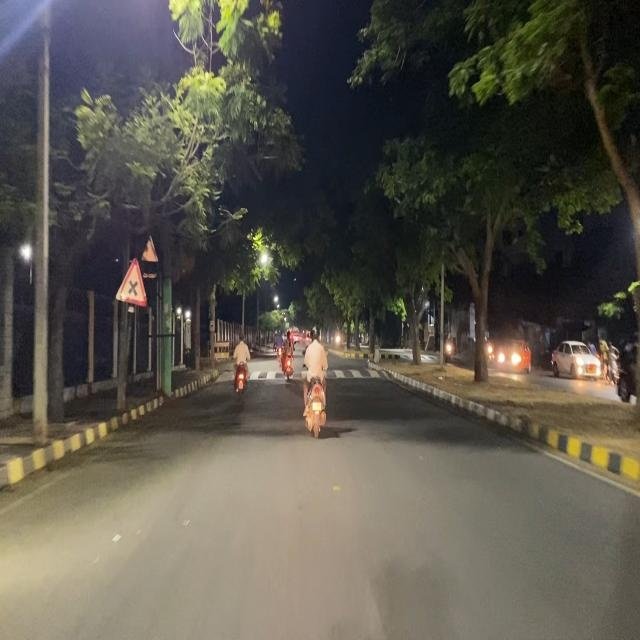bien_nguy_hiem: (115, 254, 148, 308)
